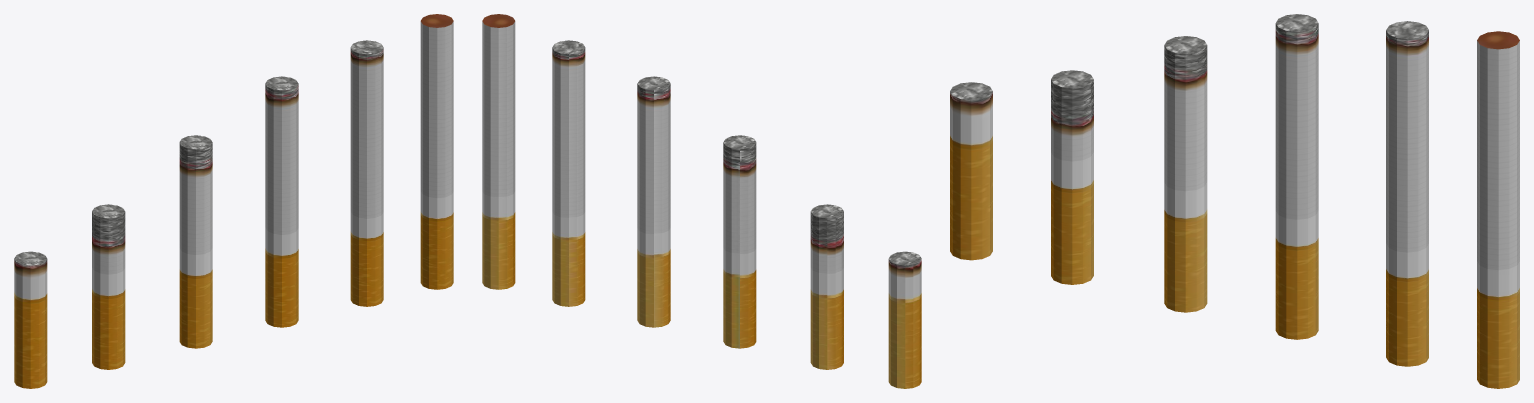
The model's file is cigarrillos.fbx.
The picture shows the model from 3 angles, left to right: view 1: azimuth 30°, elevation 25°; view 2: azimuth 150°, elevation 25°; view 3: azimuth 330°, elevation 25°; orthographic projection. The views are drawn at different scales.
Visible parts, largest first — view 1: pucho 1, pucho 2, pucho 3, Pucho 4, pucho 5, pucho 6; view 2: pucho 1, pucho 2, pucho 3, Pucho 4, pucho 5, pucho 6; view 3: pucho 1, pucho 2, pucho 3, Pucho 4, pucho 5, pucho 6.
Part boxes in pixels (x1,y1,x2,y2): pucho 1: (420,14,453,289); pucho 2: (350,40,383,306); pucho 3: (265,76,298,327); Pucho 4: (179,135,212,348); pucho 5: (92,204,125,369); pucho 6: (14,251,47,388); pucho 1: (482,14,515,289); pucho 2: (552,40,585,306); pucho 3: (637,76,670,327); Pucho 4: (723,135,756,348); pucho 5: (810,204,843,369); pucho 6: (888,251,921,388); pucho 1: (1477,31,1519,388); pucho 2: (1386,21,1428,366); pucho 3: (1275,14,1318,339); Pucho 4: (1164,36,1207,312); pucho 5: (1051,70,1093,284); pucho 6: (950,82,992,260).
Bounding box in the file's own units: 3033 × 1744 × 200.
